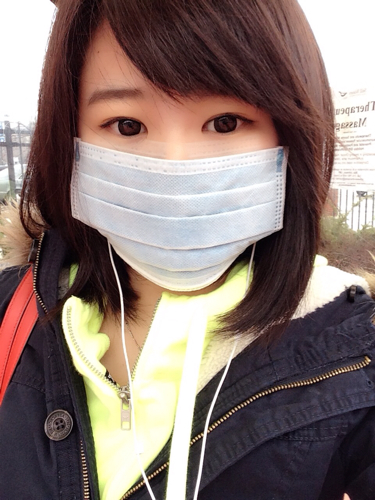face_mask: (78, 3, 279, 295)
